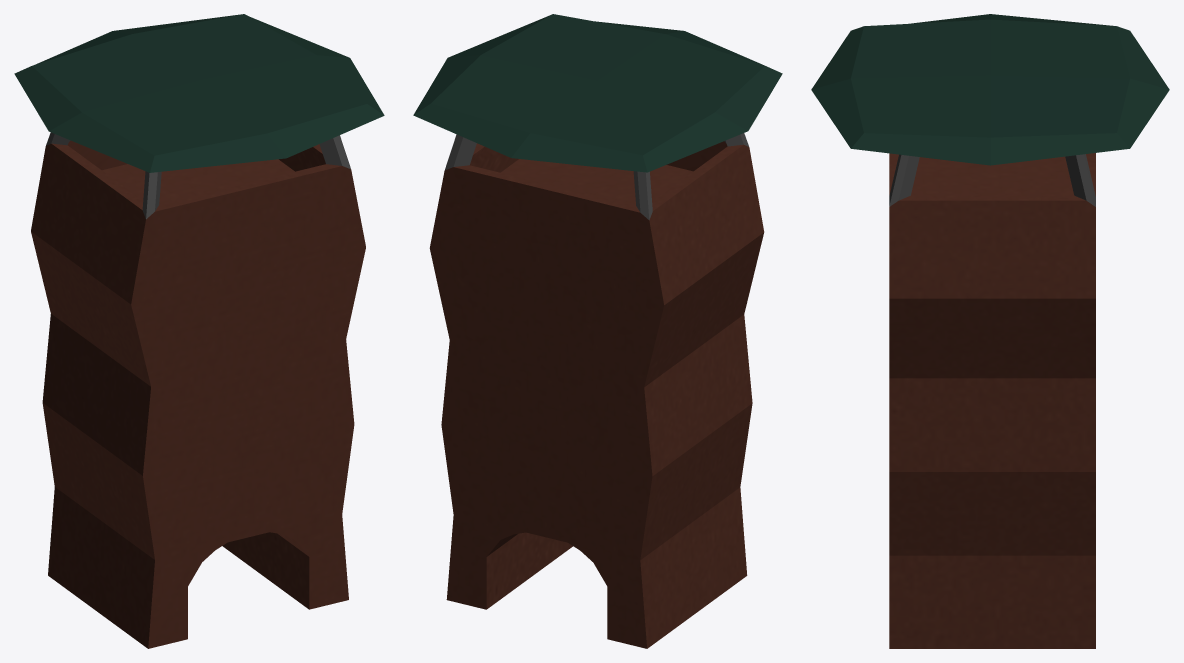
The model's file is Obstaculo_torre.fbx.
The picture shows the model from 3 angles, left to right: view 1: azimuth 30°, elevation 25°; view 2: azimuth 150°, elevation 25°; view 3: azimuth 270°, elevation 25°; orthographic projection. The views are drawn at different scales.
Visible parts, largest first — view 1: Torre; view 2: Torre; view 3: Torre.
Boxes of the visible parts, <box> form: Torre: <box>14,14,384,648</box>; Torre: <box>413,14,782,648</box>; Torre: <box>811,14,1169,648</box>.
Size of the model in its own units: 123 by 198 by 123.
